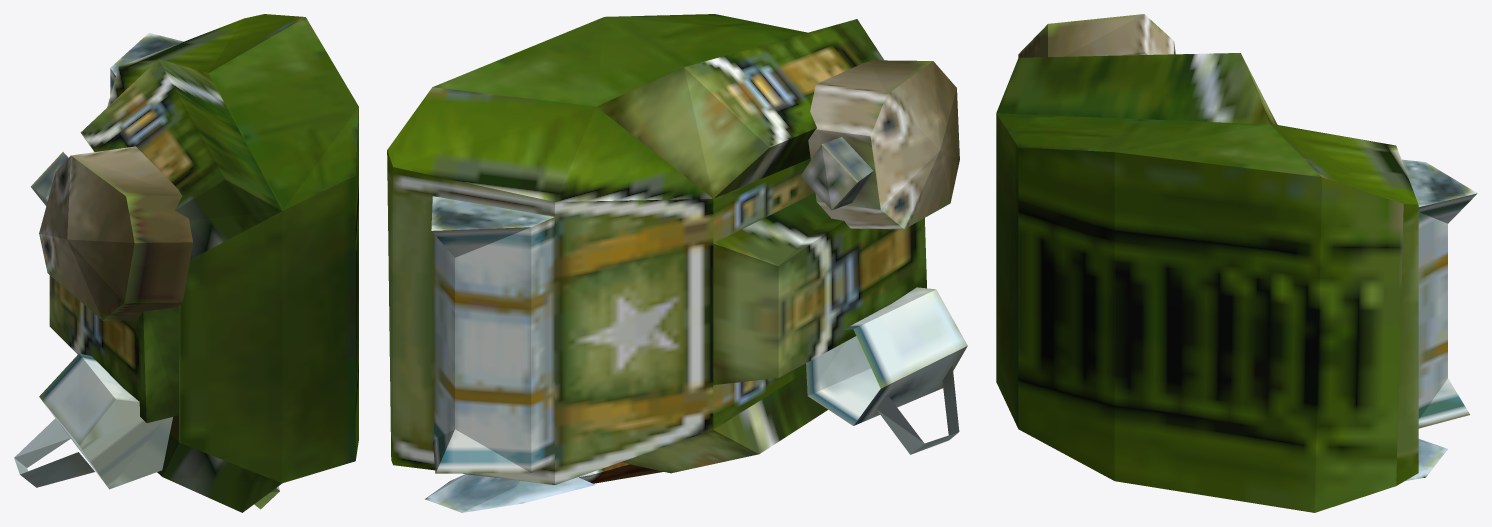
The model's file is WGBCKPCK.obj.
3 views of the same model, side by side, from view 1: azimuth 30°, elevation 25°; view 2: azimuth 150°, elevation 25°; view 3: azimuth 270°, elevation 25° (orthographic). The views are drawn at different scales.
Visible parts, largest first — view 1: Node 0; view 2: Node 0; view 3: Node 0.
Boxes of the visible parts, x1,y1,x2,y2 form: Node 0: (14,14,358,512); Node 0: (387,14,967,512); Node 0: (996,14,1477,512).
Size of the model in its own units: 0.59 by 0.59 by 0.65.
Materials: 1 (1 with a texture image).
